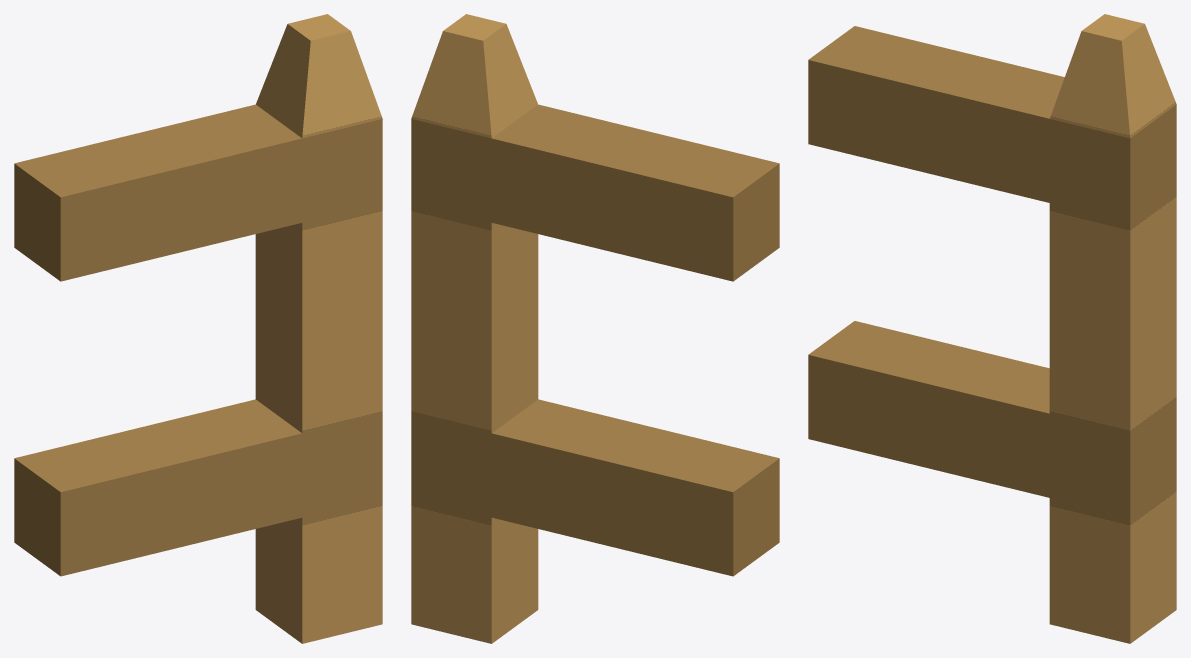
File: Fence.gltf
3 views of the same model, side by side, from view 1: azimuth 30°, elevation 25°; view 2: azimuth 150°, elevation 25°; view 3: azimuth 330°, elevation 25° (orthographic).
Parts seen in each view (by area): view 1: cuboid; view 2: cuboid; view 3: cuboid.
Part boxes in pixels (<box>): cuboid: <box>14,14,382,643</box>; cuboid: <box>411,14,779,643</box>; cuboid: <box>808,14,1176,643</box>.
Size of the model in its own units: 1 by 1.75 by 0.25.
Materials: 1 (1 with a texture image).
